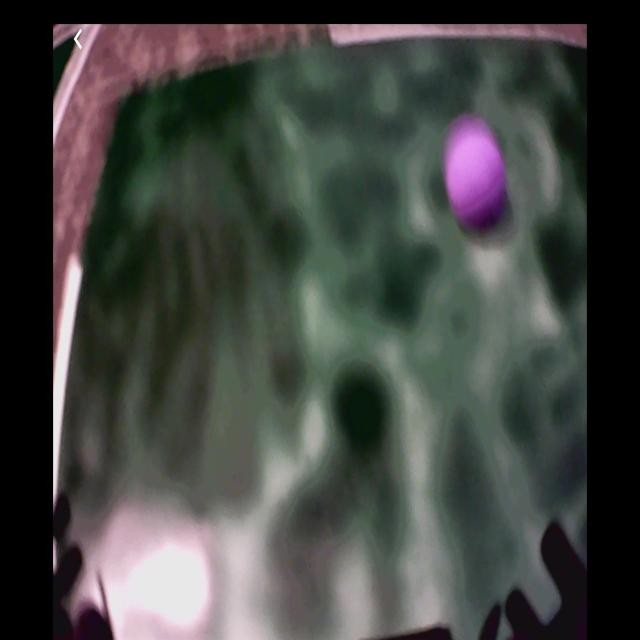ball: (448, 131, 503, 223)
